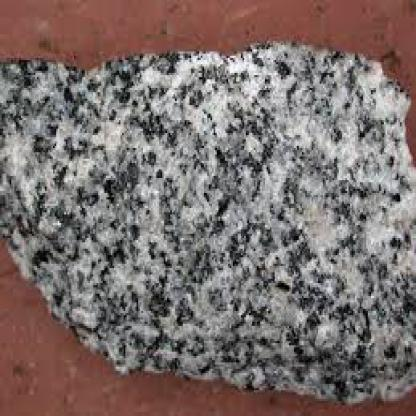Igneous_Diorite: (7, 43, 414, 401)
